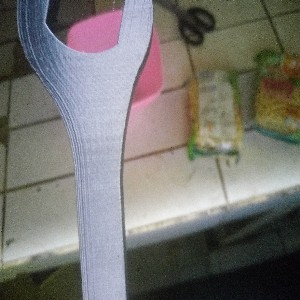spanner: (15, 1, 156, 300)
